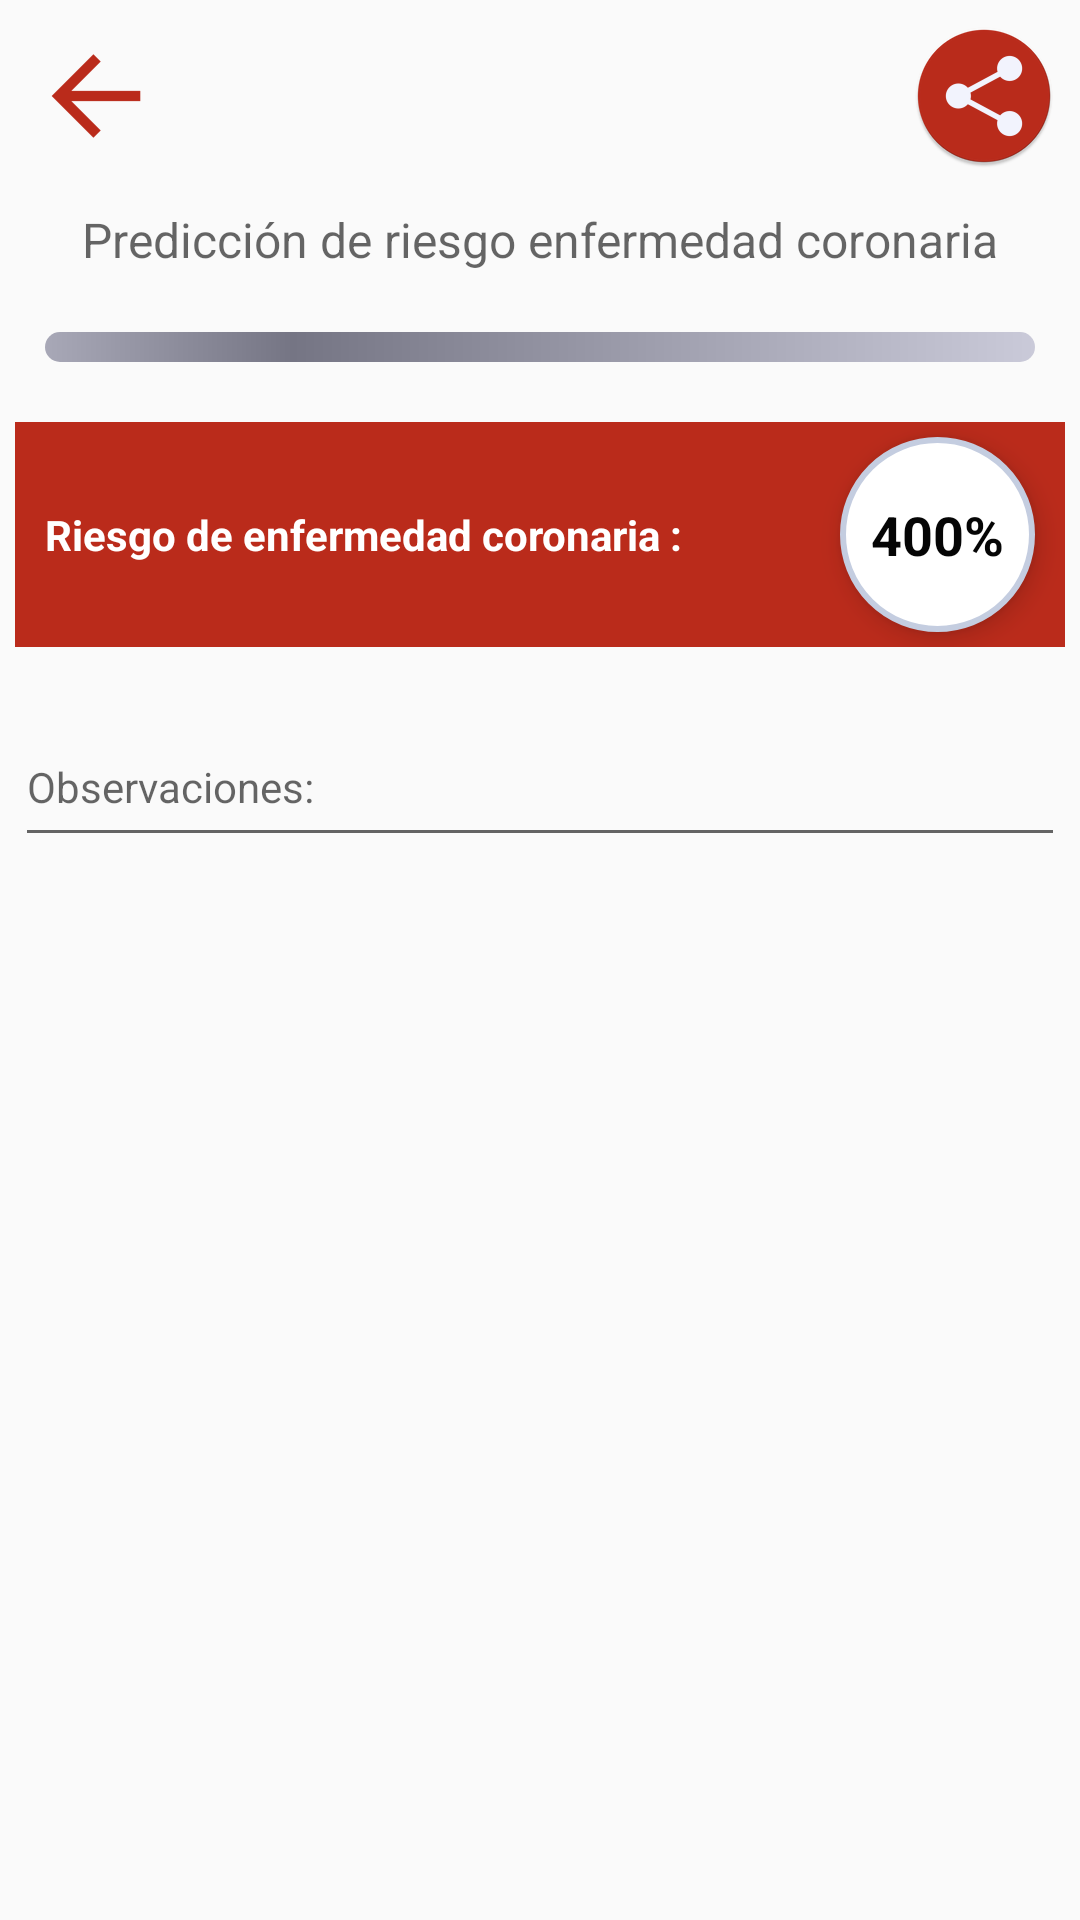

Named icons in this screenshot (1080px x 1920px) and their bounding boxes, (x1, y1, x2, y2):
previous: (52, 54, 141, 138)
share: (917, 29, 1051, 165)
